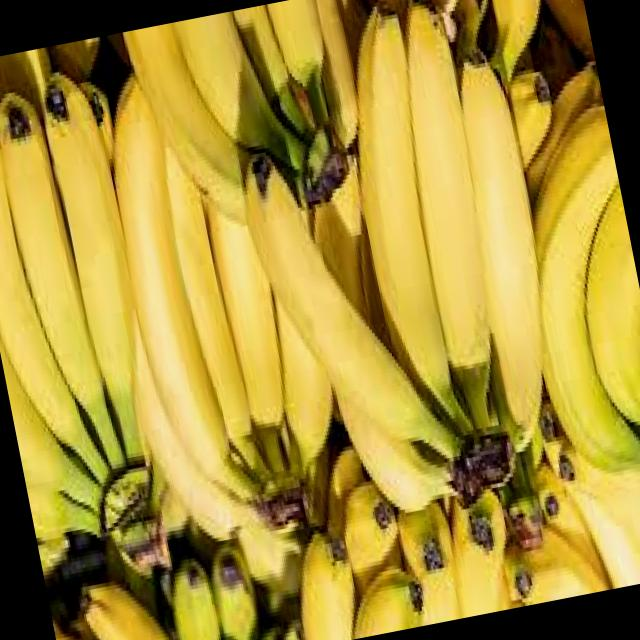Banana: (214, 0, 585, 535), (72, 52, 356, 560), (0, 73, 180, 554), (485, 56, 640, 534), (124, 0, 380, 245)
